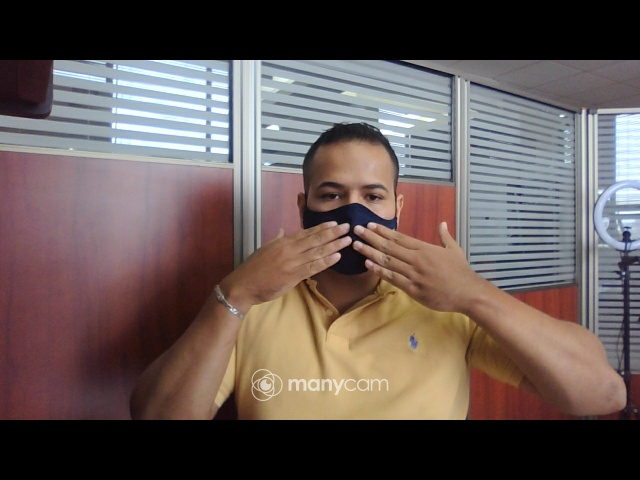Thanks: (182, 217, 505, 324)
